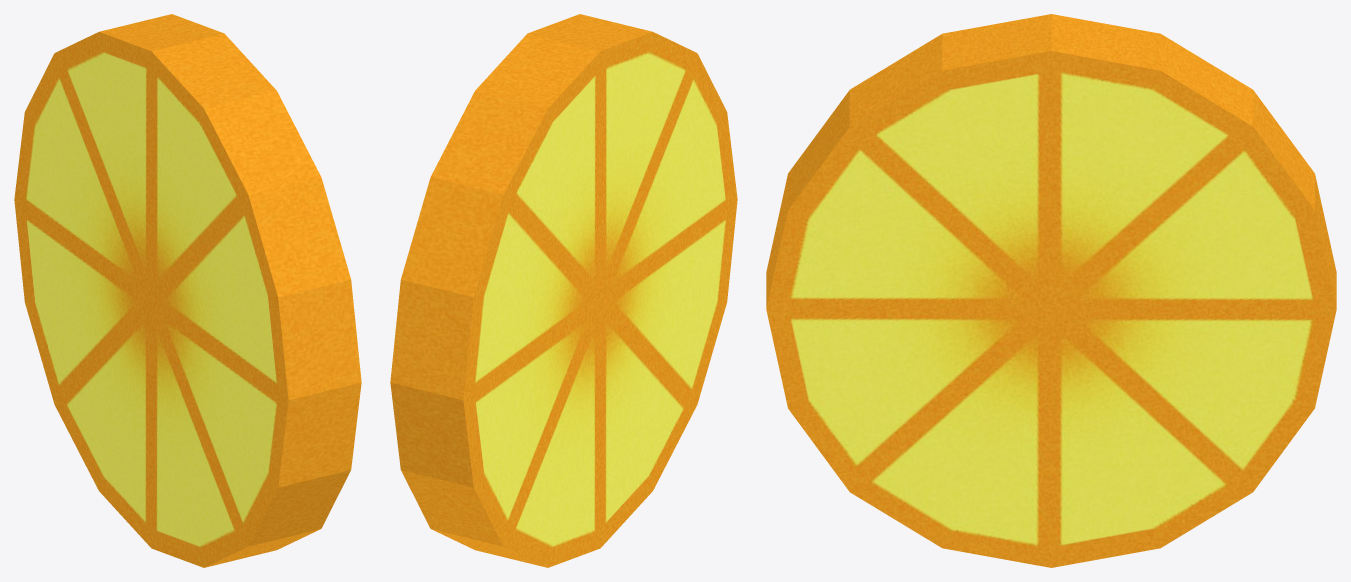
File: lemon_only.gltf
The picture shows the model from 3 angles, left to right: view 1: azimuth 30°, elevation 25°; view 2: azimuth 150°, elevation 25°; view 3: azimuth 270°, elevation 25°; orthographic projection. The views are drawn at different scales.
Parts seen in each view (by area): view 1: lemon; view 2: lemon; view 3: lemon.
Boxes of the visible parts, x1,y1,x2,y2 form: lemon: (14, 14, 361, 567); lemon: (390, 14, 737, 567); lemon: (766, 14, 1336, 567).
Size of the model in its own units: 0.1925 by 1.25 by 1.25.
Materials: 1 (1 with a texture image).
